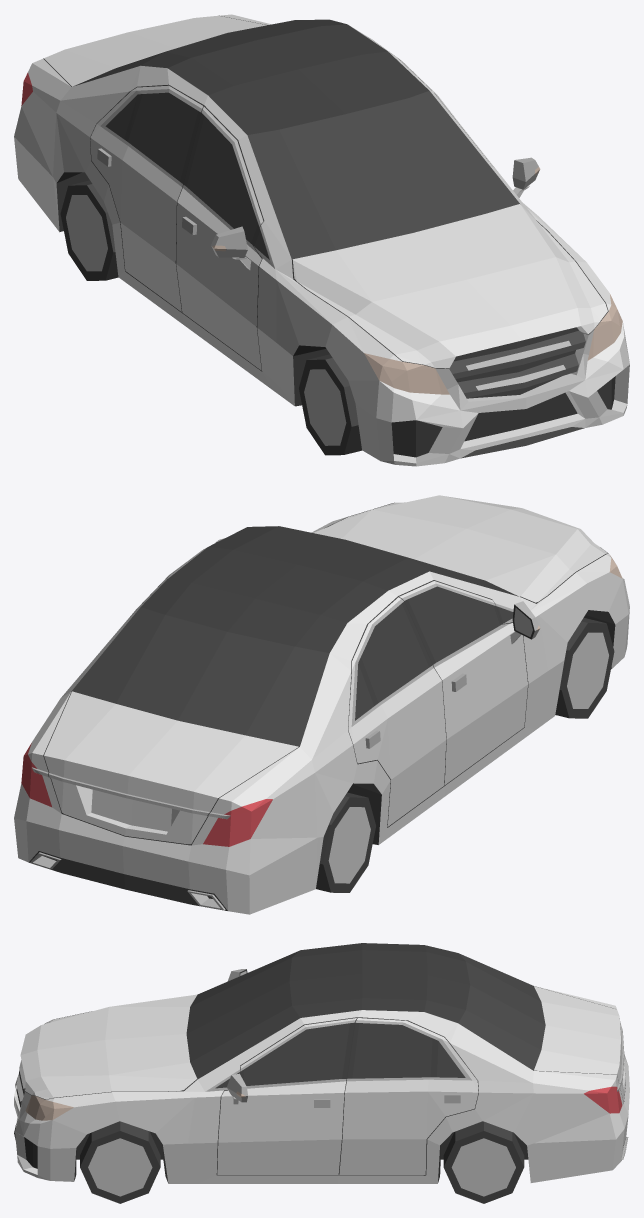
File: CarSedan2White.fbx
The picture shows the model from 3 angles, top to bottom: view 1: azimuth 30°, elevation 25°; view 2: azimuth 150°, elevation 25°; view 3: azimuth 270°, elevation 25°; orthographic projection. The views are drawn at different scales.
Parts seen in each view (by area): view 1: Cube, wheel_fr, wheel_rr; view 2: Cube, wheel_rr, wheel_fr; view 3: Cube, wheel_rl, wheel_fl.
Boxes of the visible parts, x1=… form: Cube: x1=14, y1=14, x2=629, y2=466; wheel_fr: x1=299, y1=354, x2=361, y2=455; wheel_rr: x1=60, y1=180, x2=118, y2=280; Cube: x1=14, y1=495, x2=629, y2=914; wheel_rr: x1=316, y1=792, x2=375, y2=892; wheel_fr: x1=555, y1=617, x2=614, y2=718; Cube: x1=14, y1=943, x2=629, y2=1183; wheel_rl: x1=443, y1=1121, x2=524, y2=1203; wheel_fl: x1=80, y1=1121, x2=160, y2=1203.
Bounding box in the file's own units: 2.38 × 1.66 × 5.11.
